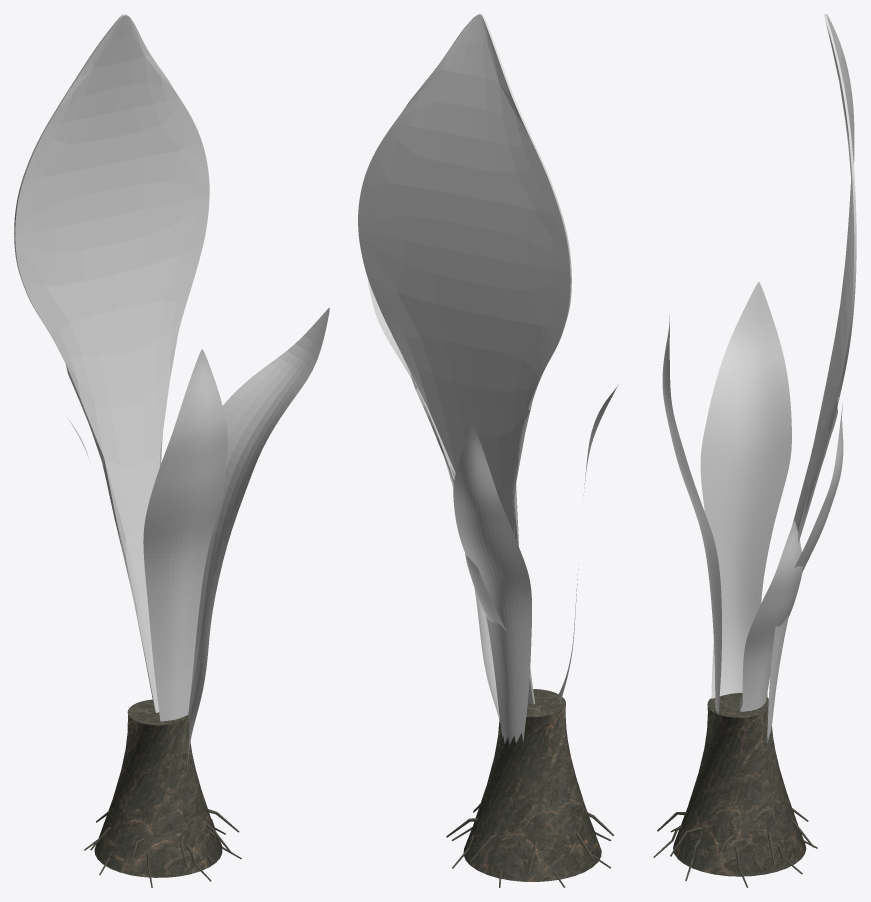
Rendered from flow01.glb.
3 views of the same model, side by side, from view 1: azimuth 30°, elevation 25°; view 2: azimuth 150°, elevation 25°; view 3: azimuth 270°, elevation 25° (orthographic). The views are drawn at different scales.
Parts seen in each view (by area): view 1: Vert.003, Plane.002, Cylinder, Vert.002; view 2: Vert.003, Cylinder, Plane.002, Vert.002; view 3: Plane.002, Cylinder, Vert.003, Vert.002.
Boxes of the visible parts, x1,y1,x2,y2 form: Vert.003: (14,14,209,712); Plane.002: (67,308,329,773); Cylinder: (94,699,222,877); Vert.002: (84,809,241,887); Vert.003: (358,14,571,704); Cylinder: (463,689,601,881); Plane.002: (367,278,617,744); Vert.002: (446,803,614,887); Plane.002: (662,282,843,742); Cylinder: (673,693,806,876); Vert.003: (739,14,856,711); Vert.002: (653,808,817,887).
Size of the model in its own units: 0.1821 by 0.5467 by 0.1197.
2 materials, 1 textured.
